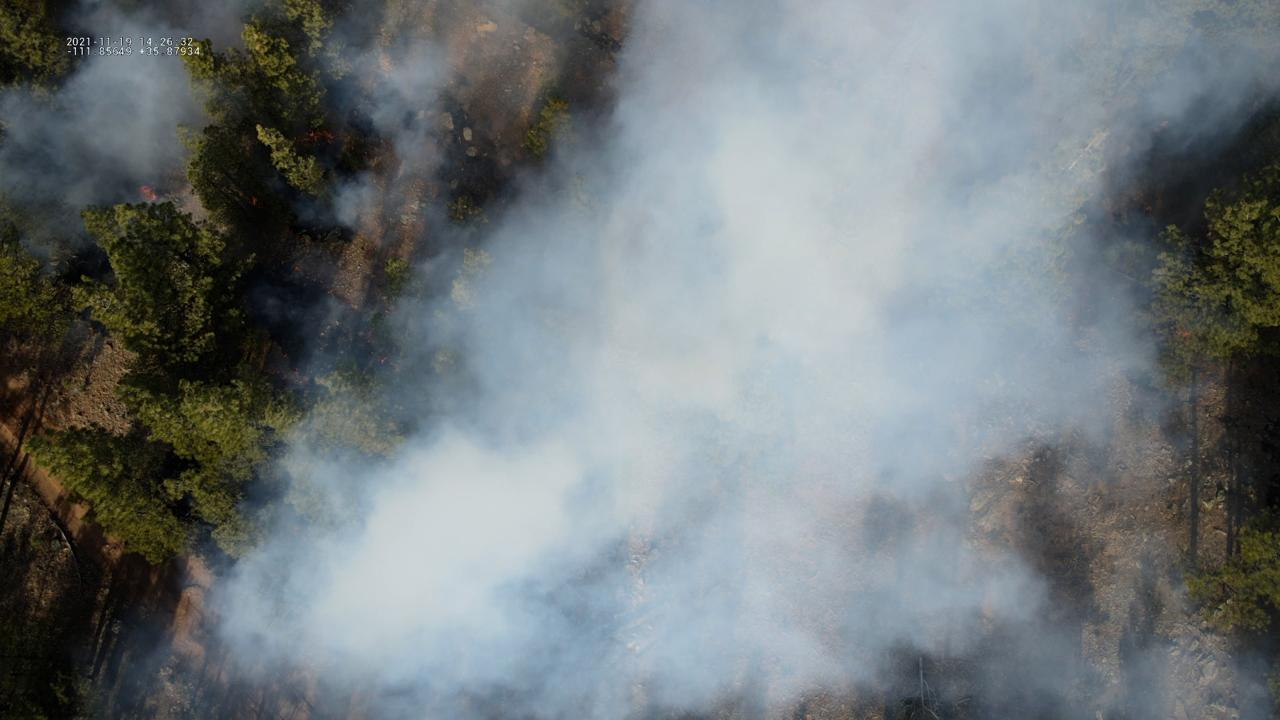fire: (289, 128, 337, 146), (135, 185, 157, 204), (1173, 329, 1193, 338), (250, 194, 259, 208)
smoke: (0, 0, 1280, 720)
